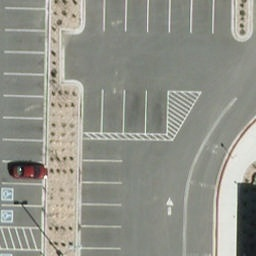car: (8, 162, 48, 180)
